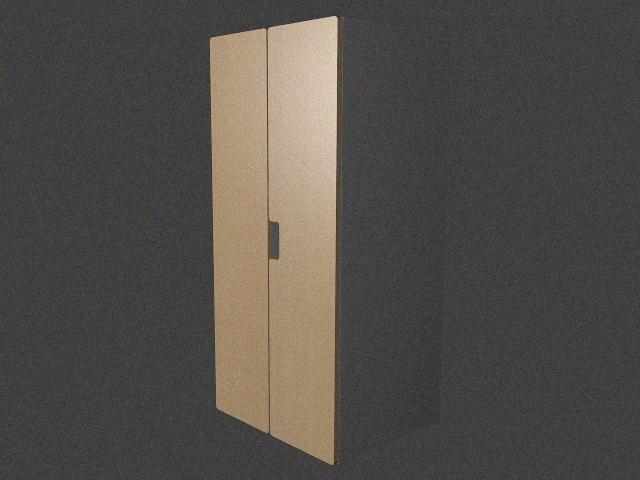cabinet_door: (268, 21, 336, 451), (212, 32, 268, 422)
handle: (268, 215, 281, 262)
